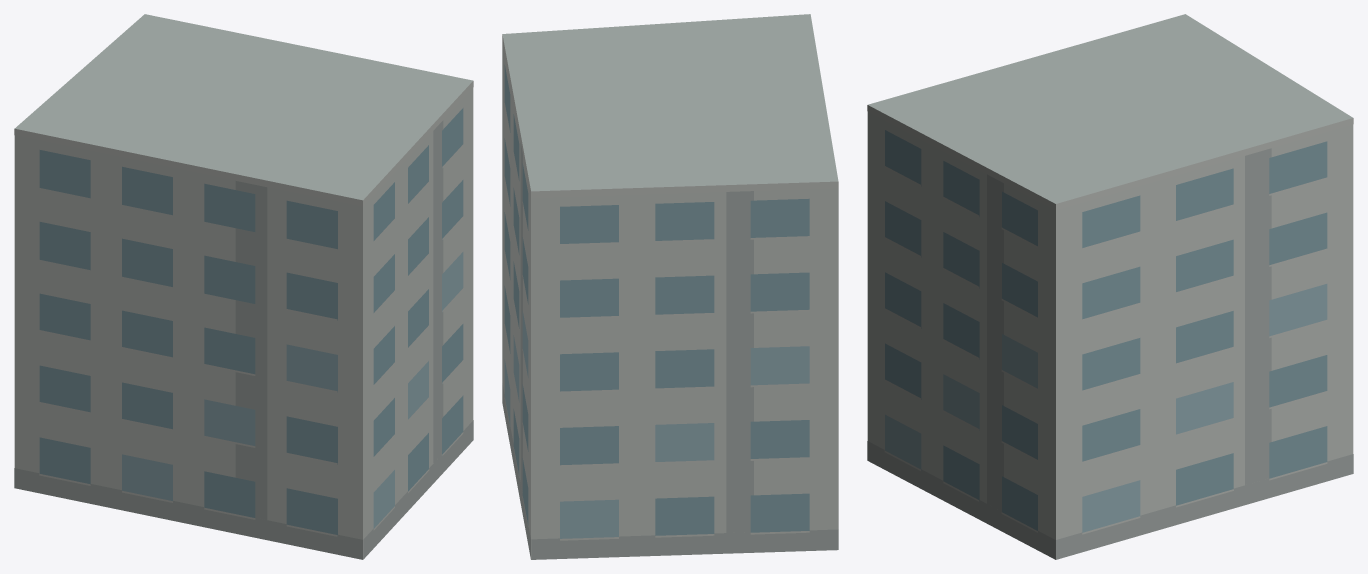
File: survey-upis-32949431.glb
3 views of the same model, side by side, from view 1: azimuth 30°, elevation 25°; view 2: azimuth 150°, elevation 25°; view 3: azimuth 270°, elevation 25° (orthographic). The views are drawn at different scales.
Visible parts, largest first — view 1: survey-upis-32949431.tmp; view 2: survey-upis-32949431.tmp; view 3: survey-upis-32949431.tmp.
Part boxes in pixels (left/top/right/bottom): survey-upis-32949431.tmp: left=14, top=14, right=473, bottom=559; survey-upis-32949431.tmp: left=502, top=14, right=838, bottom=559; survey-upis-32949431.tmp: left=867, top=14, right=1353, bottom=559.
Bounding box in the file's own units: 15.12 × 13.2 × 16.35.
